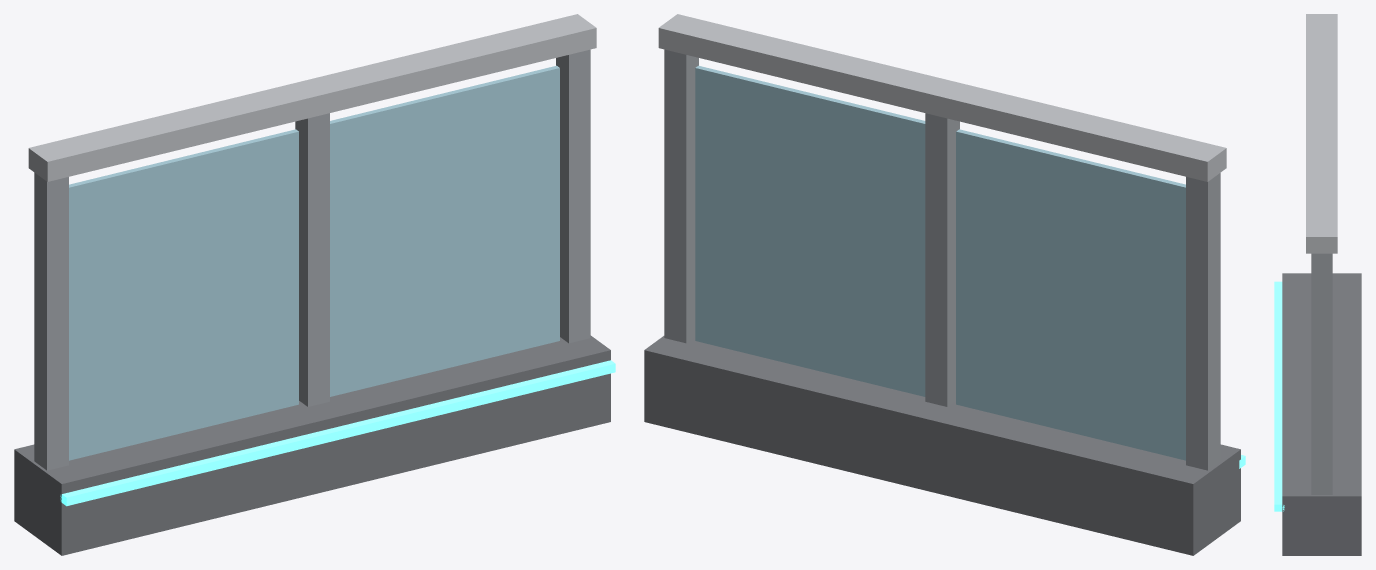
File: SM_Wall_Railing.glb
3 views of the same model, side by side, from view 1: azimuth 30°, elevation 25°; view 2: azimuth 150°, elevation 25°; view 3: azimuth 270°, elevation 25° (orthographic). The views are drawn at different scales.
Parts seen in each view (by area): view 1: SM_Wall_Railing; view 2: SM_Wall_Railing; view 3: SM_Wall_Railing.
Boxes of the visible parts, x1=… form: SM_Wall_Railing: x1=14, y1=14, x2=615, y2=555; SM_Wall_Railing: x1=644, y1=14, x2=1245, y2=555; SM_Wall_Railing: x1=1274, y1=14, x2=1361, y2=555.
Size of the model in its own units: 2 by 1.33 by 0.33.
